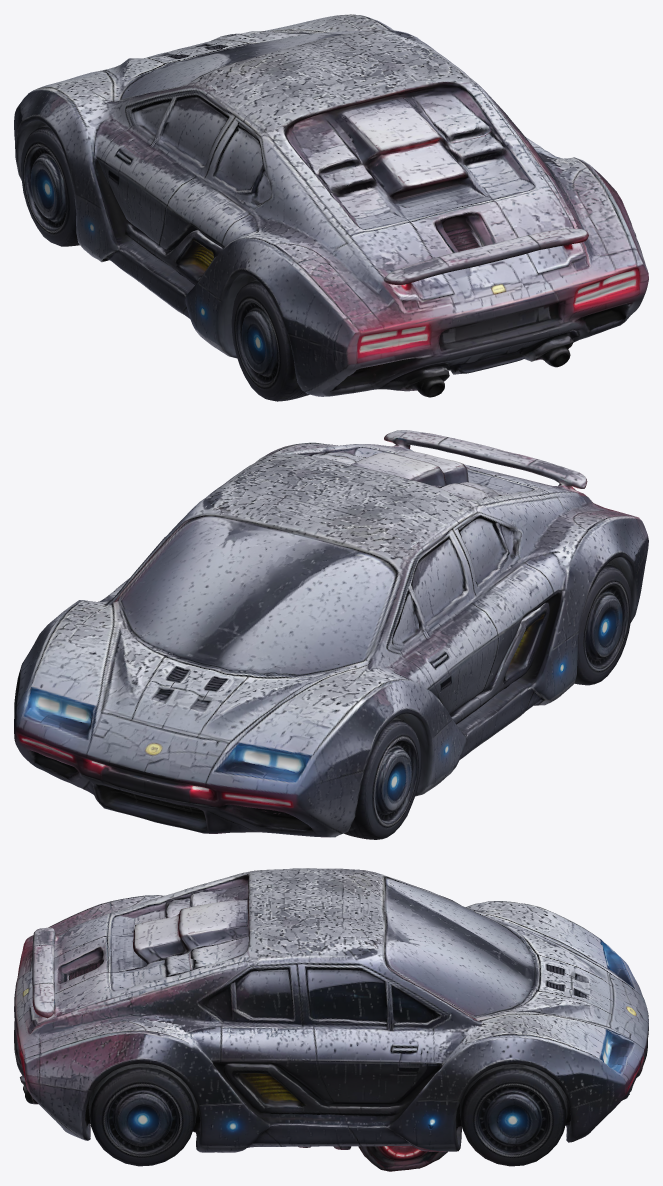
Rendered from race-car-03.glb.
The picture shows the model from 3 angles, top to bottom: view 1: azimuth 30°, elevation 25°; view 2: azimuth 150°, elevation 25°; view 3: azimuth 270°, elevation 25°; orthographic projection. The views are drawn at different scales.
Parts seen in each view (by area): view 1: 未来汽车3d模型; view 2: 未来汽车3d模型; view 3: 未来汽车3d模型.
Part boxes in pixels (bbox=[...]): 未来汽车3d模型: bbox=[14, 14, 648, 401]; 未来汽车3d模型: bbox=[14, 430, 648, 839]; 未来汽车3d模型: bbox=[14, 868, 648, 1171].
Size of the model in its own units: 0.5642 by 0.4161 by 0.9788.
Materials: 1 (1 with a texture image).
